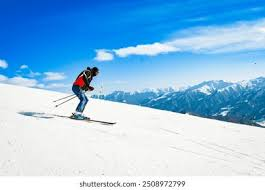skis: (57, 112, 118, 126)
